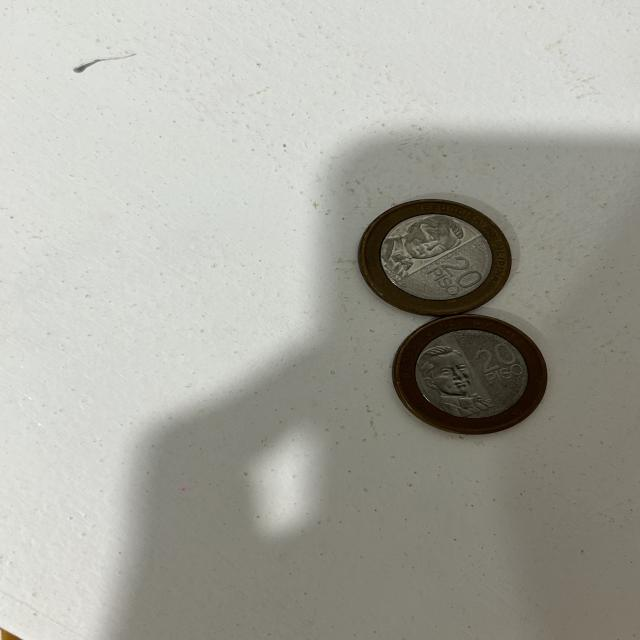20_New_Front: (470, 340, 527, 388), (428, 254, 486, 299)
